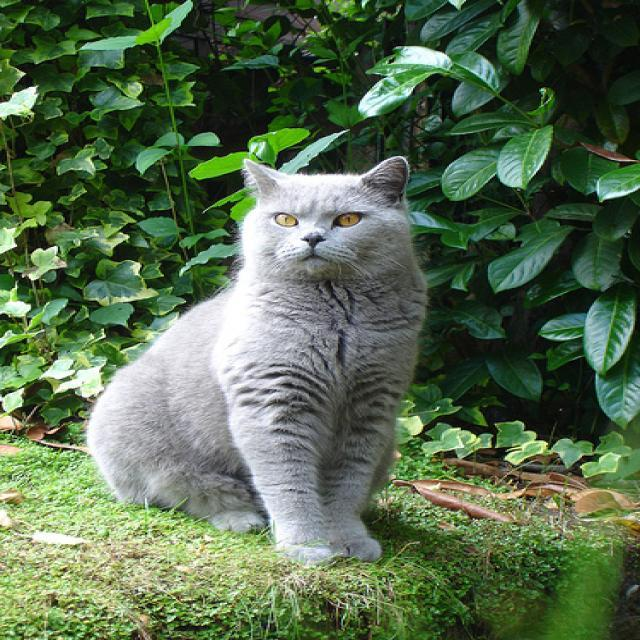British_Shorthair: (229, 151, 434, 306)
